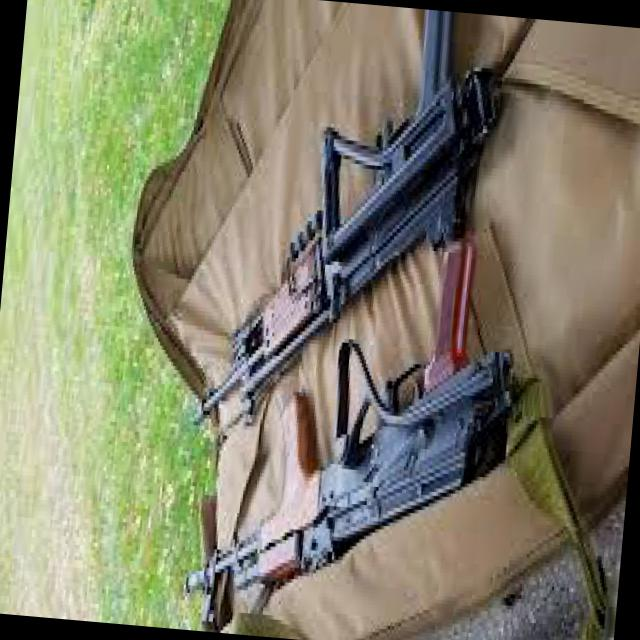long weapon: (178, 21, 543, 452), (186, 251, 511, 623)
